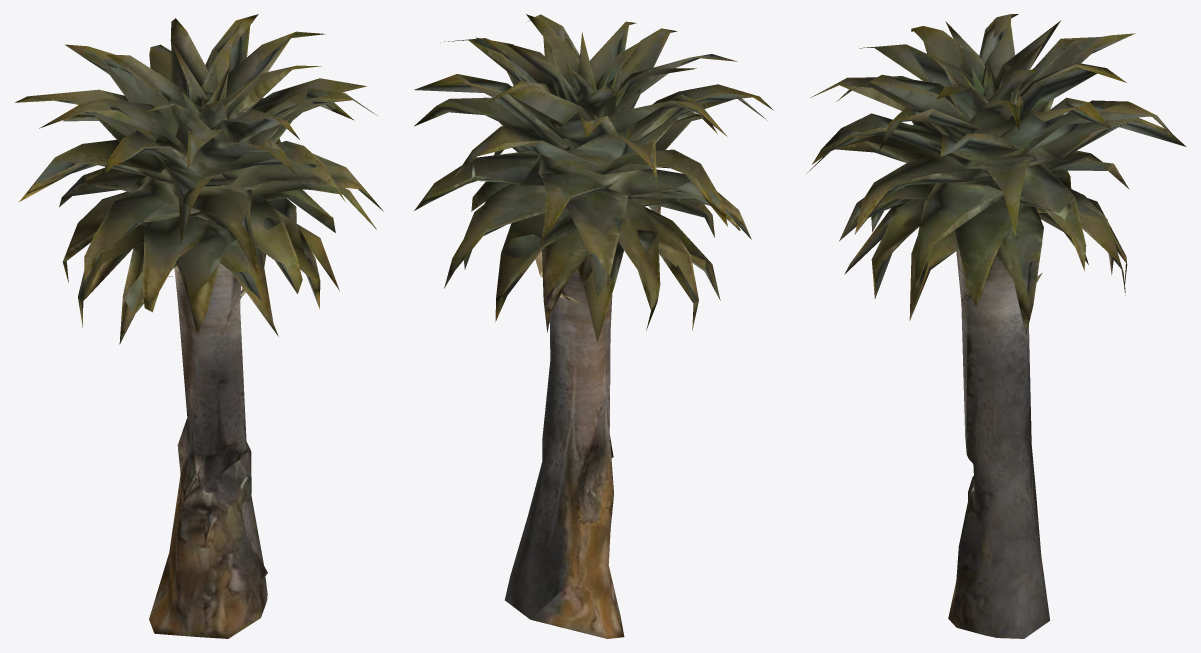
Rendered from quiver_tree_2.glb.
3 views of the same model, side by side, from view 1: azimuth 30°, elevation 25°; view 2: azimuth 150°, elevation 25°; view 3: azimuth 270°, elevation 25° (orthographic).
Parts seen in each view (by area): view 1: quiver_tree_02; view 2: quiver_tree_02; view 3: quiver_tree_02.
Part boxes in pixels (<box>): quiver_tree_02: <box>15,14,383,638</box>; quiver_tree_02: <box>414,14,773,638</box>; quiver_tree_02: <box>806,14,1186,638</box>.
Bounding box in the file's own units: 0.8629 × 1.46 × 0.8743.
Materials: 1 (1 with a texture image).
